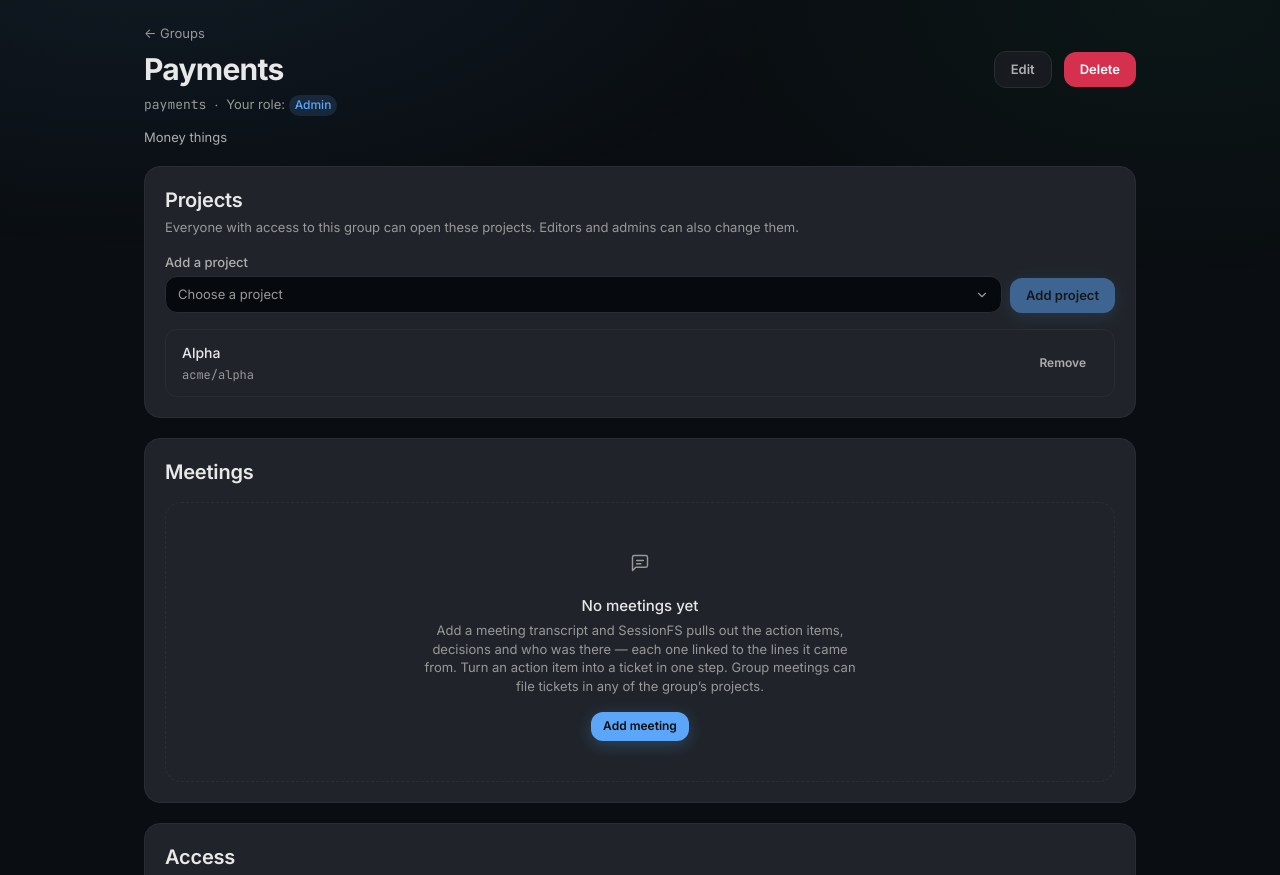
Test: Group meetings › keeps the upload warnings when the new meeting opens
Expected: the text "No meetings yet" is shown, [582,596,698,615]
Click the button "Add meeting": (640, 726) [591,712,689,741]
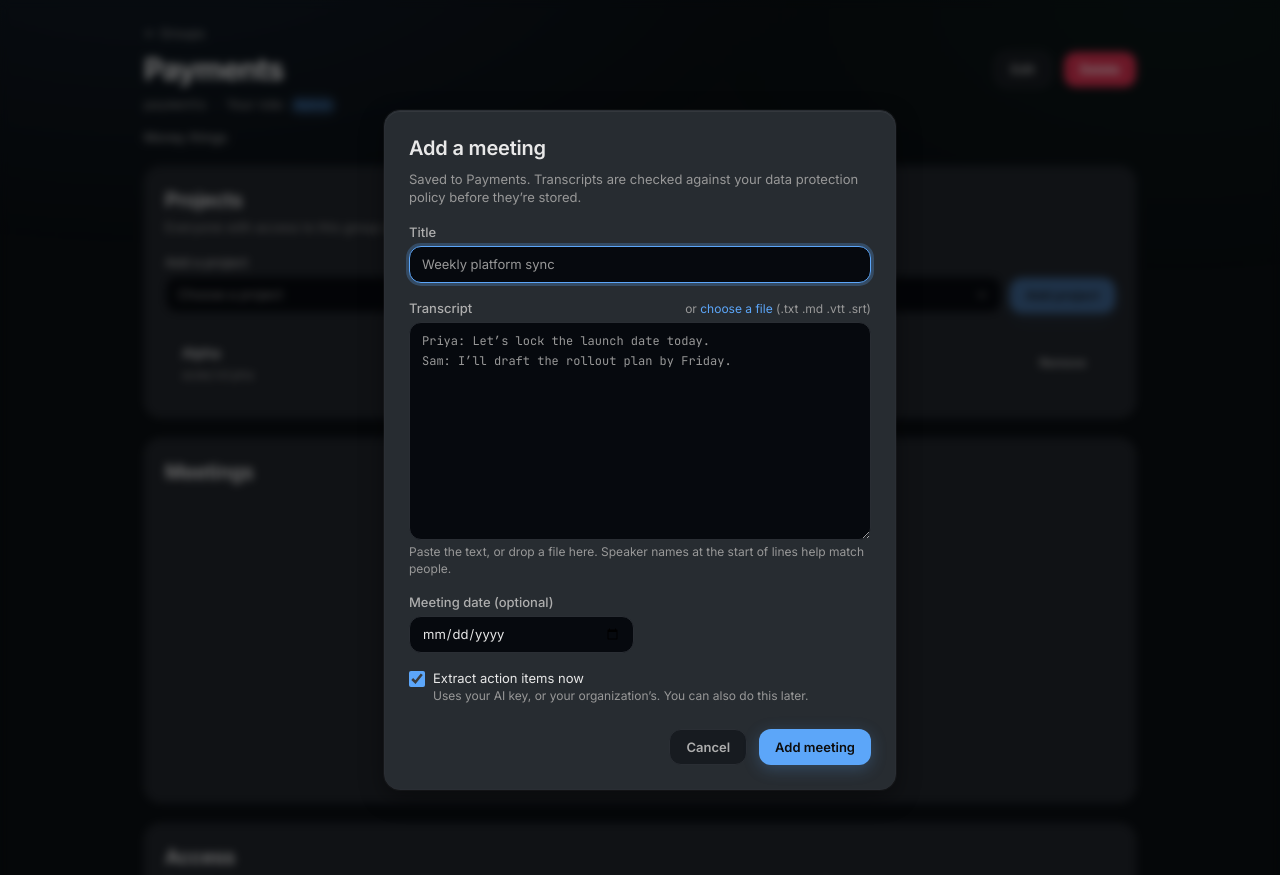
In the field labelled "Title": (640, 264) [409,246,871,283], type "Program review"
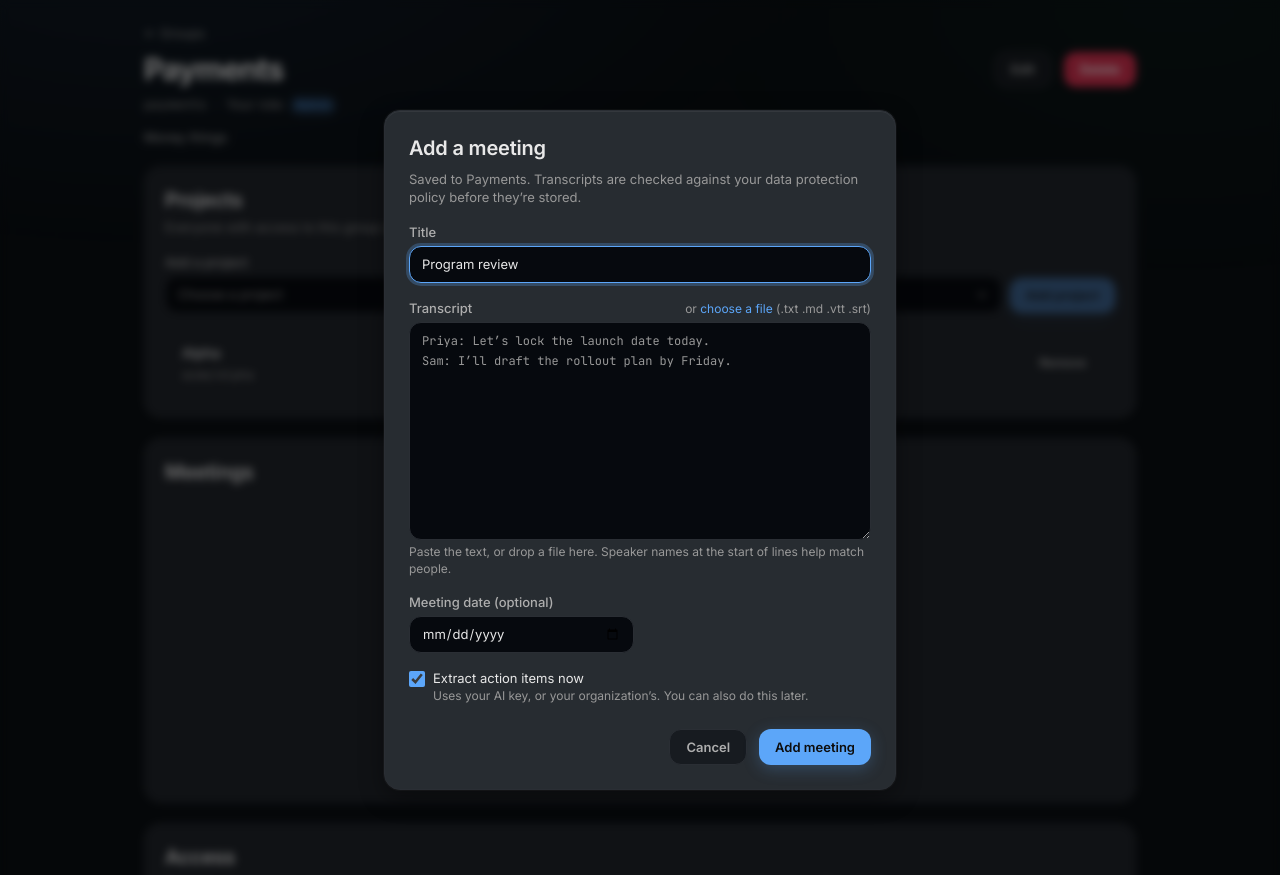
Replace the text in the text box labelled "Transcript" with "Peer: I will draft the plan.": (640, 431) [409,322,871,540]
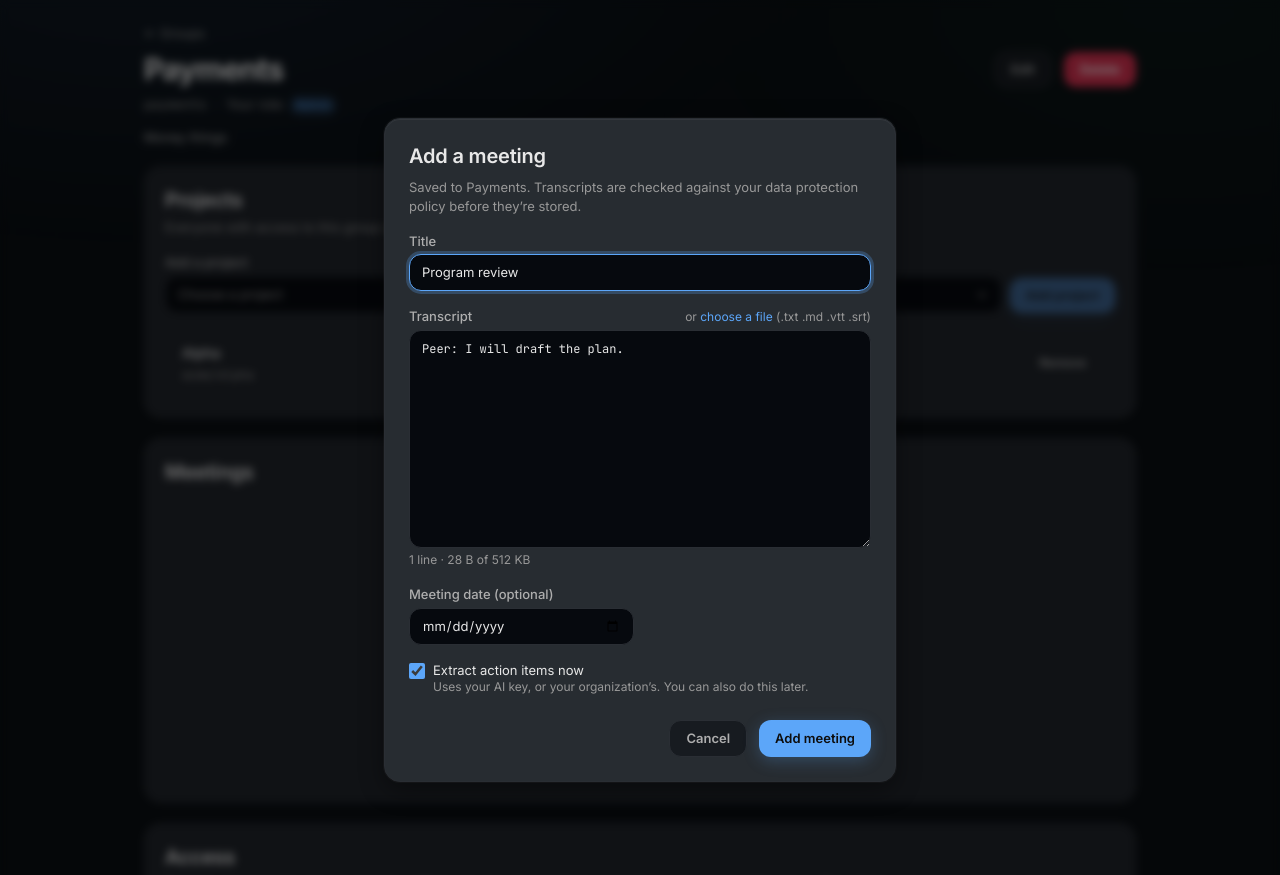
Click the button "Add meeting": (815, 739) [759,720,871,757]
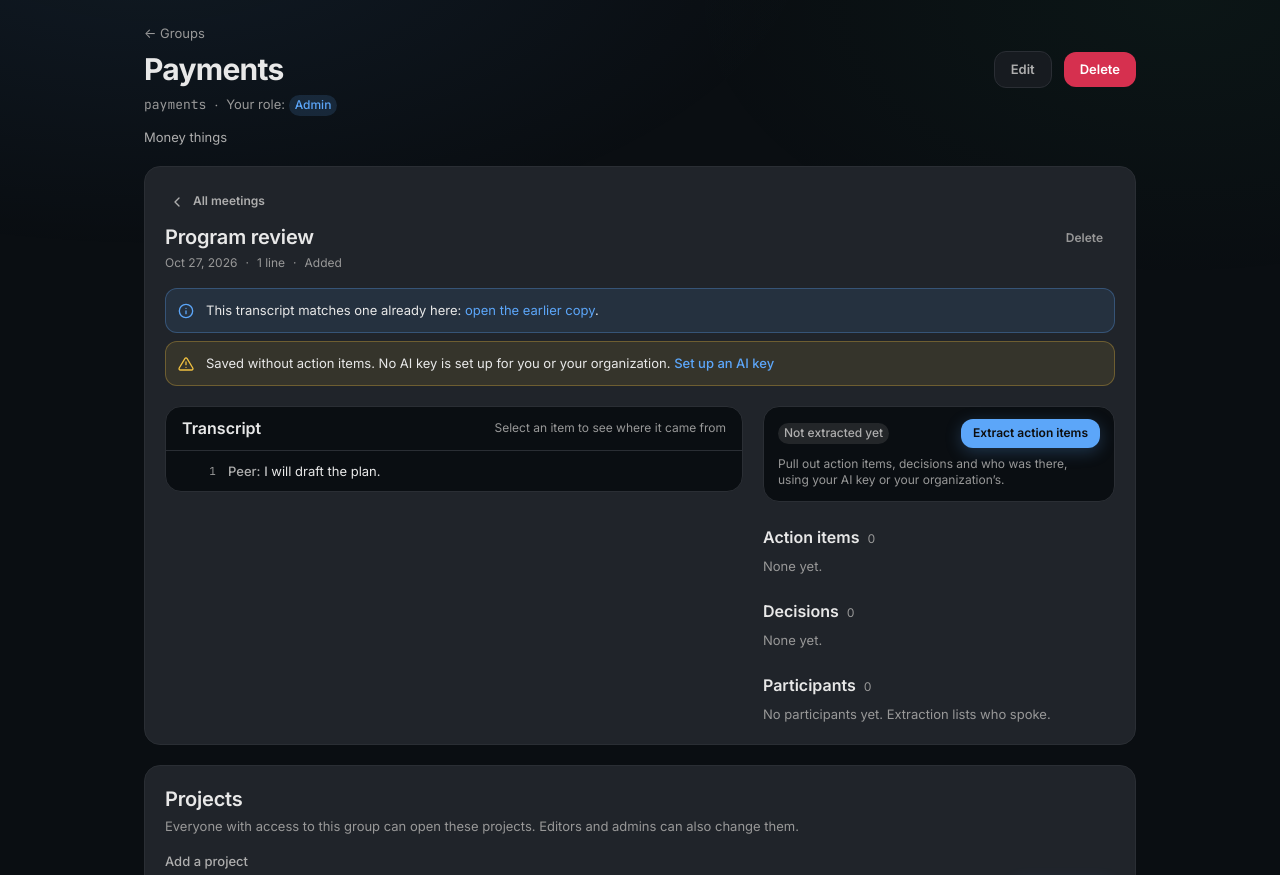
Expected: the heading "Program review" is shown, [165,225,314,249]
Expected: the text "Saved without action items" is shown, [206,355,379,371]
